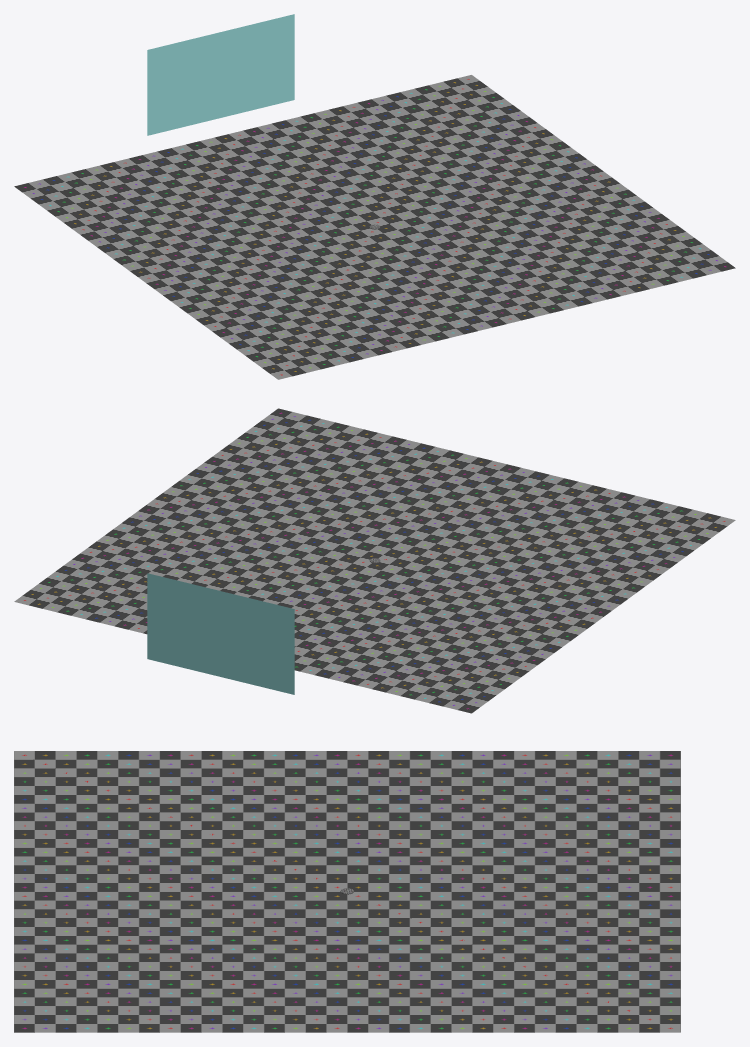
Rendered from DebugGym.glb.
The picture shows the model from 3 angles, top to bottom: view 1: azimuth 30°, elevation 25°; view 2: azimuth 150°, elevation 25°; view 3: azimuth 270°, elevation 25°; orthographic projection. The views are drawn at different scales.
Visible parts, largest first — view 1: Plane, Plane.001; view 2: Plane, Plane.001; view 3: Plane.
Boxes of the visible parts, bbox=[...] form: Plane: bbox=[14, 75, 735, 379]; Plane.001: bbox=[147, 14, 294, 135]; Plane: bbox=[14, 408, 735, 713]; Plane.001: bbox=[147, 573, 294, 694]; Plane: bbox=[14, 751, 680, 1032].
Bounding box in the file's own units: 200 × 35.88 × 217.
Materials: 2 (1 with a texture image).
